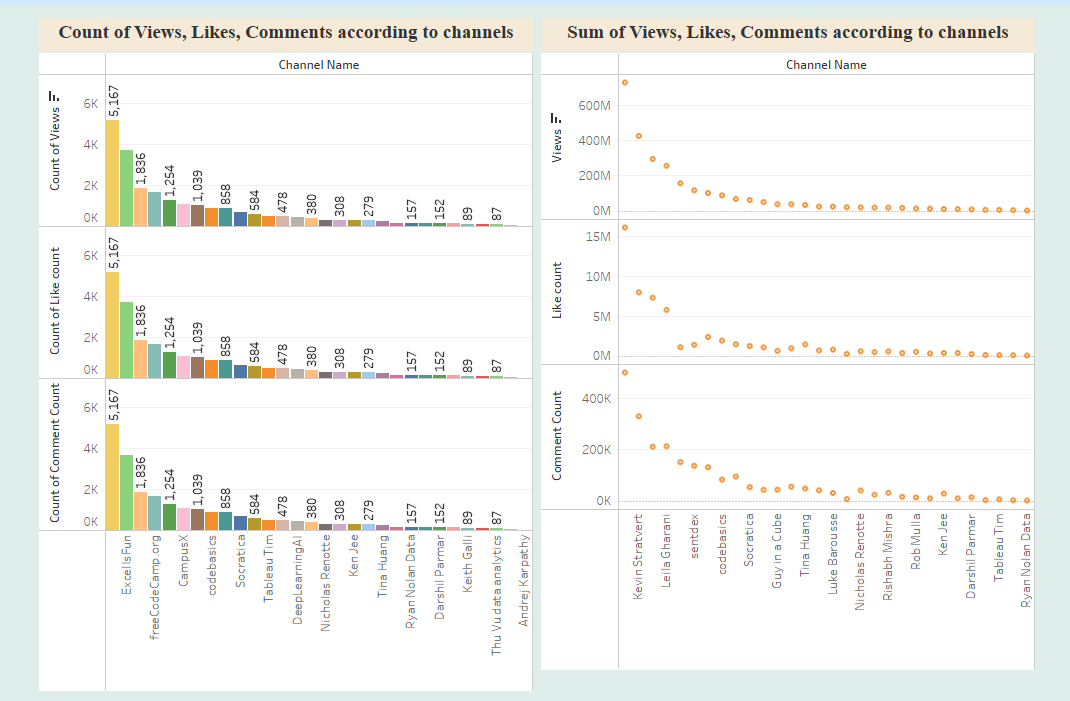

The page's visual inventory and layout, read from the dashboard file:
{"tool":"tableau","page":{"name":"Dashboard 1","canvas":[1000,1000],"units":"permille","ordinal":0},"visuals":[{"type":"worksheet","title":"Count of VLC ac. channel","mark":"Automatic","rows":["Views","Like_count","Comment_Count"],"cols":["Channel_Name"],"box":[7.8,11.5,492.2,977.1]},{"type":"worksheet","title":"sum of VLC acor. to Channel","mark":"Shape","rows":["Views","Like_count","Comment_Count"],"cols":["Channel_Name"],"box":[500,11.5,492.2,977.1]}]}

Visuals, with their boxes on the dashboard's canvas, which has no fixed pixel size, in thousandths of its width and height (x1, y1, x2, y2). These are canvas units, not pixel positions in the 1070x701 screenshot, which may show the page scaled, cropped or inside an application window:
"Count of VLC ac. channel" worksheet: 8:12:500:989
"sum of VLC acor. to Channel" worksheet (Shape marks): 500:12:992:989
